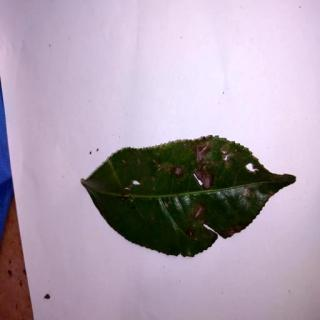Anthracnose: (84, 136, 297, 256)
